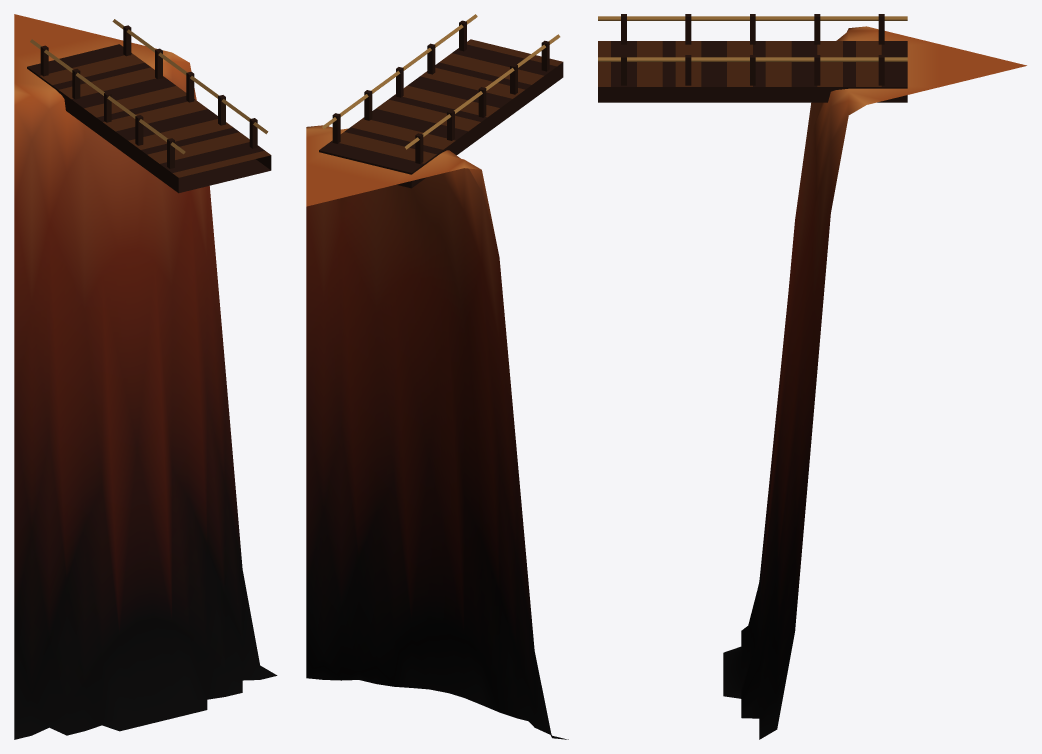
Rendered from MODULE_DESERT_BRIDGEHEAD.fbx.
3 views of the same model, side by side, from view 1: azimuth 30°, elevation 25°; view 2: azimuth 150°, elevation 25°; view 3: azimuth 270°, elevation 25° (orthographic).
Visible parts, largest first — view 1: MODULE_DESERT_BRIDGEHEAD__export, MODULE_DESERT_BRIDGEHEAD_DECOR__export; view 2: MODULE_DESERT_BRIDGEHEAD__export, MODULE_DESERT_BRIDGEHEAD_DECOR__export; view 3: MODULE_DESERT_BRIDGEHEAD__export, MODULE_DESERT_BRIDGEHEAD_DECOR__export.
Boxes of the visible parts, x1=… form: MODULE_DESERT_BRIDGEHEAD__export: x1=14, y1=14, x2=277, y2=739; MODULE_DESERT_BRIDGEHEAD_DECOR__export: x1=30, y1=19, x2=268, y2=168; MODULE_DESERT_BRIDGEHEAD__export: x1=306, y1=39, x2=568, y2=739; MODULE_DESERT_BRIDGEHEAD_DECOR__export: x1=322, y1=14, x2=560, y2=163; MODULE_DESERT_BRIDGEHEAD__export: x1=598, y1=26, x2=1026, y2=739; MODULE_DESERT_BRIDGEHEAD_DECOR__export: x1=598, y1=14, x2=907, y2=85.
Size of the model in its own units: 62.5 by 142 by 86.6.
